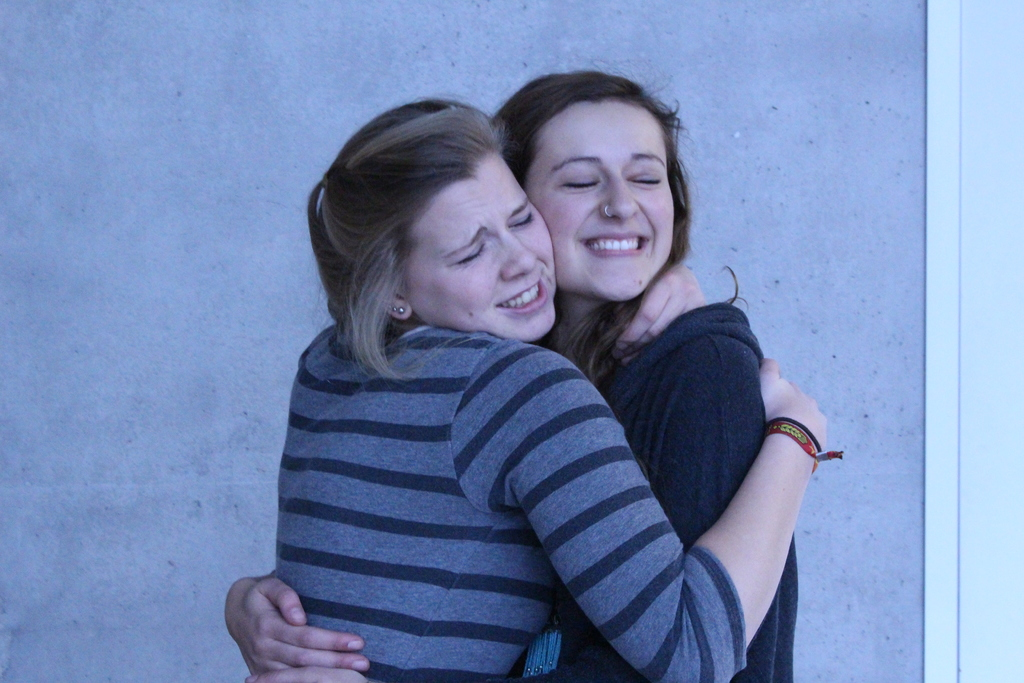Human_hand: (238, 590, 406, 680), (611, 258, 707, 369), (756, 353, 833, 453), (243, 666, 369, 682)
